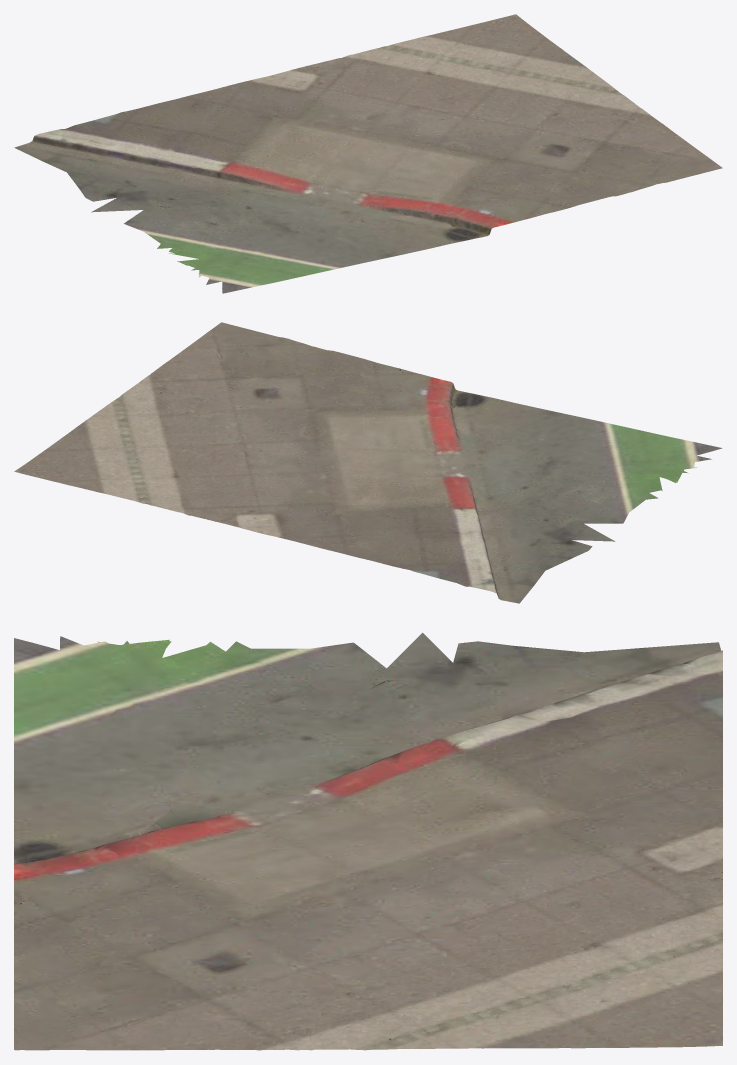
3 renders of one model, top to bottom at view 1: azimuth 30°, elevation 25°; view 2: azimuth 150°, elevation 25°; view 3: azimuth 270°, elevation 25°, orthographic. The views are drawn at different scales.
Size of the model in its own units: 11.93 by 0.3186 by 8.34.
Materials: 1 (1 with a texture image).
